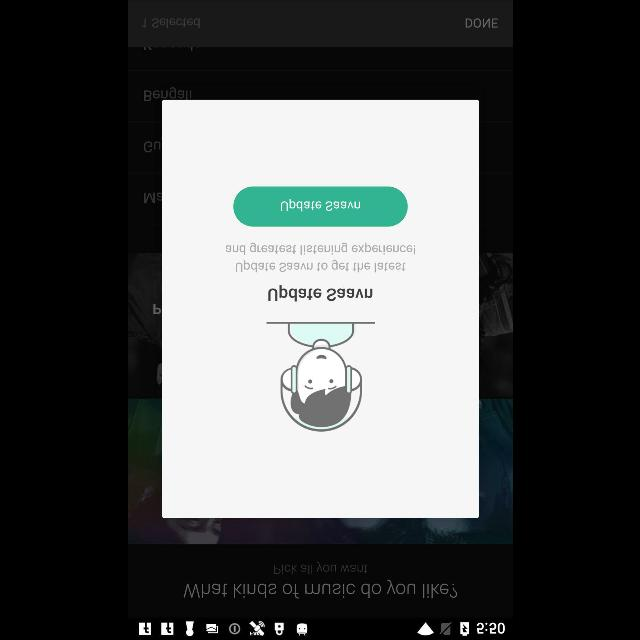image: (266, 322, 376, 432)
panel: (162, 100, 478, 518)
text: (225, 242, 415, 272), (182, 580, 456, 598), (268, 284, 372, 302), (273, 562, 367, 572), (141, 18, 199, 30), (464, 18, 498, 28)
textbutton: (232, 186, 408, 227)
uppertaskbar: (128, 621, 512, 639)
